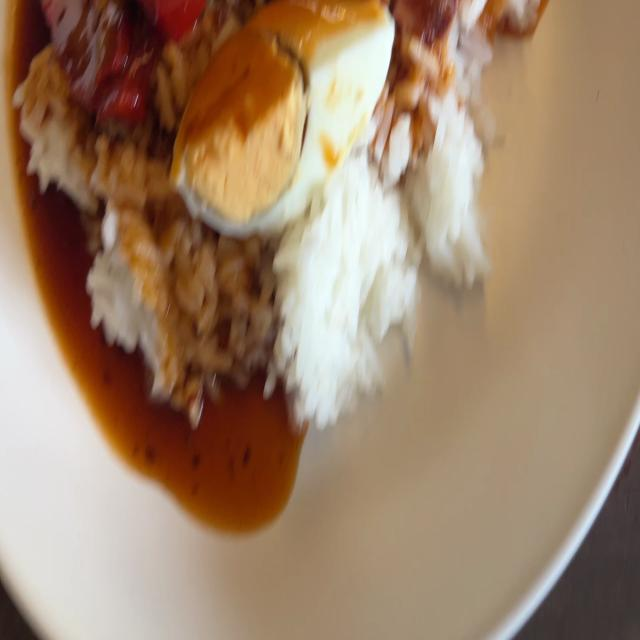01boiled_egg: (166, 0, 397, 236)
01red_pork: (47, 0, 209, 112), (42, 0, 134, 92), (144, 0, 203, 47)
01red_pork_and_crispy_pork: (15, 0, 542, 428)
01rice: (284, 186, 420, 414), (87, 197, 210, 413), (404, 107, 512, 282), (19, 46, 84, 205)
